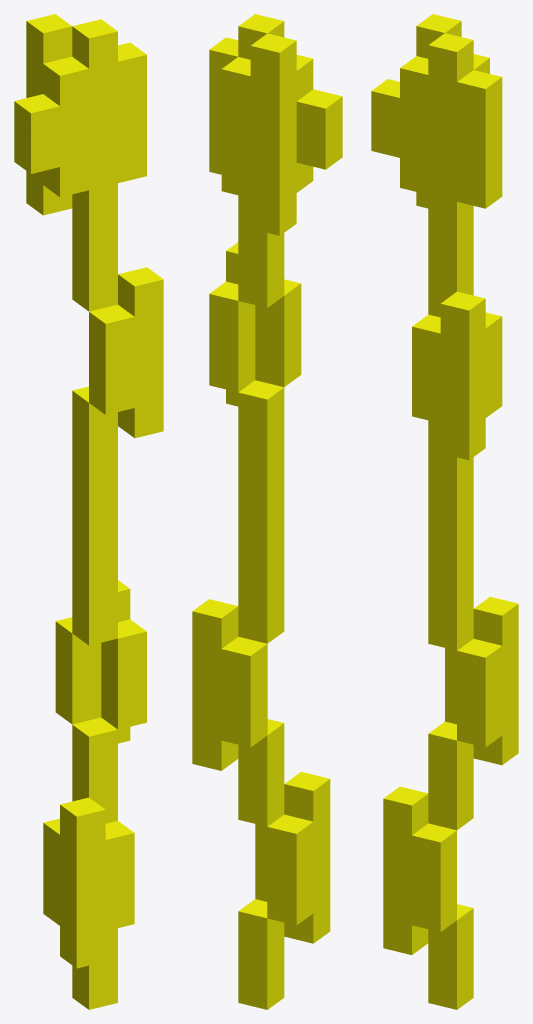
File: voxel-wizards-staff.glb
The picture shows the model from 3 angles, left to right: view 1: azimuth 30°, elevation 25°; view 2: azimuth 150°, elevation 25°; view 3: azimuth 330°, elevation 25°; orthographic projection.
Parts seen in each view (by area): view 1: VS_Wizards_Staff; view 2: VS_Wizards_Staff; view 3: VS_Wizards_Staff.
Boxes of the visible parts, x1,y1,x2,y2 form: VS_Wizards_Staff: [14, 14, 163, 1009]; VS_Wizards_Staff: [192, 14, 342, 1009]; VS_Wizards_Staff: [371, 14, 518, 1009].
Bounding box in the file's own units: 0.4 × 3.2 × 0.3.
